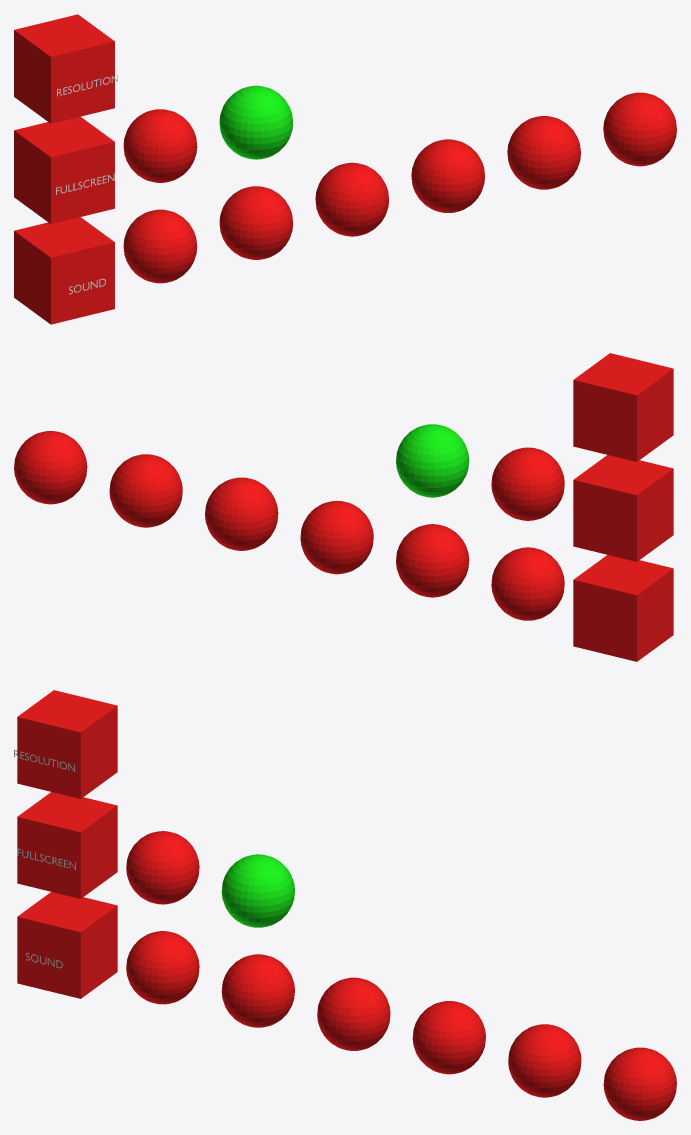
File: settingspanel.gltf
3 renders of one model, top to bottom at view 1: azimuth 30°, elevation 25°; view 2: azimuth 150°, elevation 25°; view 3: azimuth 330°, elevation 25°, orthographic.
Visible parts, largest first — view 1: RezCube, SoundCube, FullscreenCube, VolSphere.001, VolSphere.003, OffSphere, OnSphere, VolSphere.005, VolSphere.006, VolSphere.004, VolSphere.002; view 2: RezCube, FullscreenCube, SoundCube, VolSphere.001, OffSphere, OnSphere, VolSphere.004, VolSphere.003, VolSphere.005, VolSphere.002, VolSphere.006; view 3: RezCube, SoundCube, FullscreenCube, OffSphere, VolSphere.001, OnSphere, VolSphere.002, VolSphere.003, VolSphere.005, VolSphere.006, VolSphere.004.
Boxes of the visible parts, bbox=[...] form: RezCube: bbox=[14, 14, 114, 123]; SoundCube: bbox=[14, 217, 114, 324]; FullscreenCube: bbox=[14, 116, 114, 223]; VolSphere.001: bbox=[123, 209, 197, 283]; VolSphere.003: bbox=[315, 162, 388, 236]; OffSphere: bbox=[123, 109, 197, 182]; OnSphere: bbox=[219, 85, 293, 159]; VolSphere.005: bbox=[507, 116, 580, 189]; VolSphere.006: bbox=[603, 92, 676, 166]; VolSphere.004: bbox=[411, 139, 484, 212]; VolSphere.002: bbox=[219, 186, 292, 259]; RezCube: bbox=[573, 353, 673, 461]; FullscreenCube: bbox=[573, 455, 673, 561]; SoundCube: bbox=[573, 555, 673, 661]; VolSphere.001: bbox=[491, 547, 564, 620]; OffSphere: bbox=[491, 447, 564, 520]; OnSphere: bbox=[396, 424, 469, 497]; VolSphere.004: bbox=[205, 477, 278, 550]; VolSphere.003: bbox=[300, 500, 373, 574]; VolSphere.005: bbox=[109, 454, 182, 527]; VolSphere.002: bbox=[396, 524, 469, 597]; VolSphere.006: bbox=[14, 431, 87, 504]; RezCube: bbox=[17, 690, 117, 798]; SoundCube: bbox=[17, 892, 117, 998]; FullscreenCube: bbox=[17, 792, 117, 898]; OffSphere: bbox=[126, 831, 199, 904]; VolSphere.001: bbox=[126, 931, 199, 1004]; OnSphere: bbox=[221, 854, 294, 927]; VolSphere.002: bbox=[221, 954, 294, 1027]; VolSphere.003: bbox=[317, 977, 390, 1050]; VolSphere.005: bbox=[508, 1024, 581, 1097]; VolSphere.006: bbox=[603, 1047, 676, 1120]; VolSphere.004: bbox=[412, 1001, 485, 1074].
Bounding box in the file's own units: 20 × 8 × 2.25.
